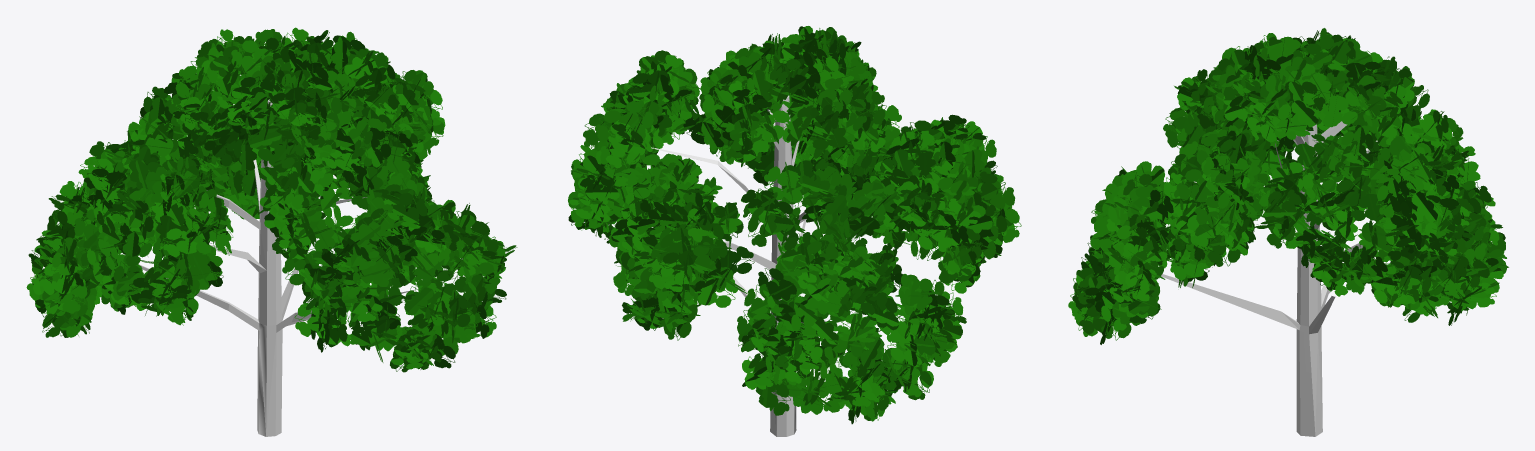
The model's file is Arbol_Aliso_N_.fbx.
The picture shows the model from 3 angles, left to right: view 1: azimuth 30°, elevation 25°; view 2: azimuth 150°, elevation 25°; view 3: azimuth 270°, elevation 25°; orthographic projection.
Visible parts, largest first — view 1: Aliso_hojas.001; view 2: Aliso_hojas.001; view 3: Aliso_hojas.001.
Part boxes in pixels (box(x1,y1,x2,y2)): Aliso_hojas.001: box(26, 27, 517, 436); Aliso_hojas.001: box(568, 26, 1021, 436); Aliso_hojas.001: box(1068, 28, 1508, 436).
Size of the model in its own units: 748 by 723 by 752.
